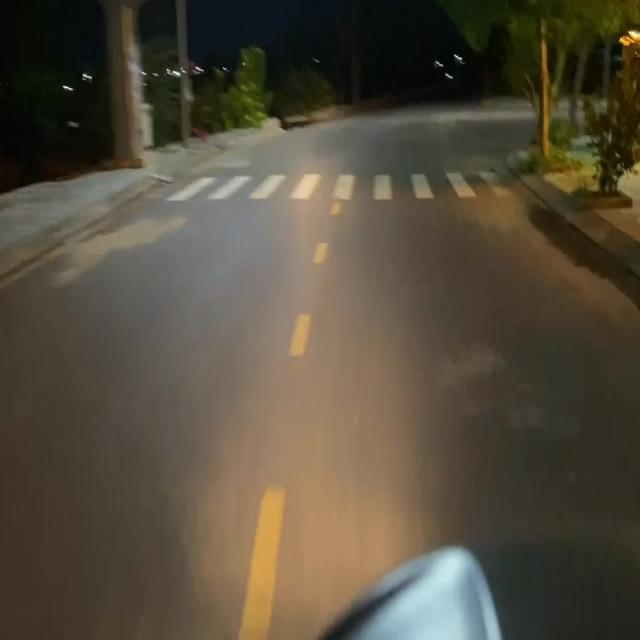walk-crossing: (160, 158, 523, 210)
